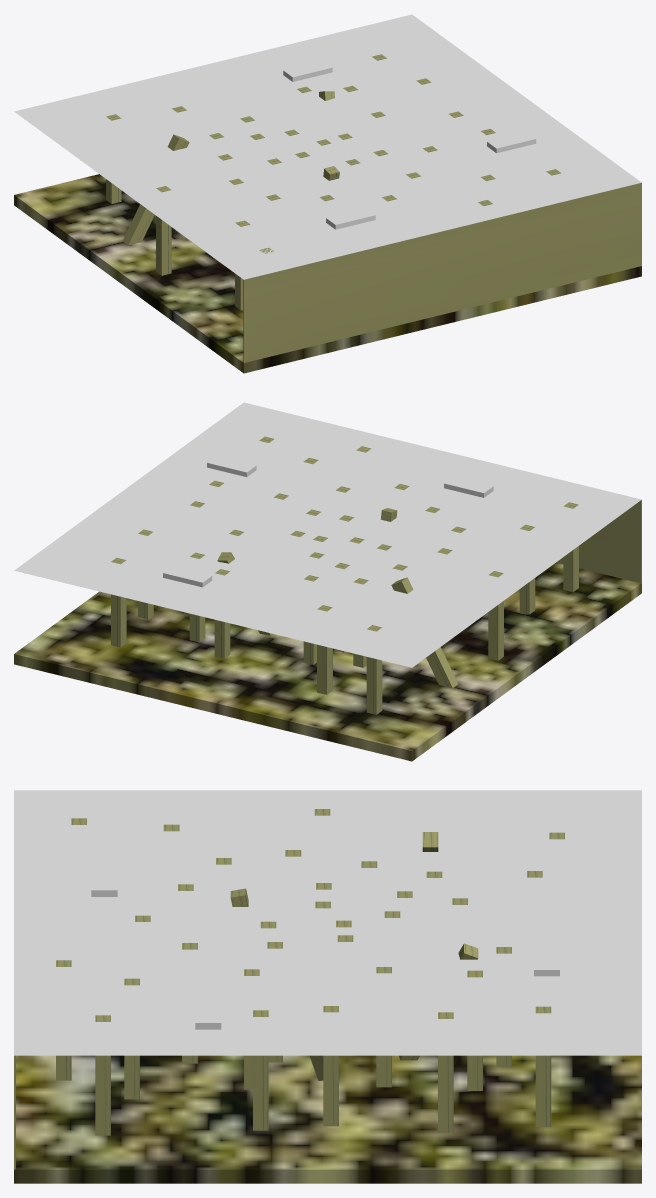
The model's file is BackroomsLevelZero - 19.fbx.
3 views of the same model, one above another, from view 1: azimuth 30°, elevation 25°; view 2: azimuth 150°, elevation 25°; view 3: azimuth 270°, elevation 25° (orthographic). The views are drawn at different scales.
Parts seen in each view (by area): view 1: Floor.038, Wall.022, Floor.007, Cube.034, Cube.032, Cube.255, Cube.256, Cube.257; view 2: Floor.038, Floor.007, Wall.022, Cube.035, Cube.034, Cube.032, Cube.024, Cube.036, Cube.030, Cube.002, Cube.256, Cube.255 (+2 smaller); view 3: Floor.038, Floor.007, Cube.028, Cube.025, Cube.024, Cube.026, Cube.027, Cube.256, Cube.257, Cube.255, Cube.008, Cube.023 (+1 smaller).
Boxes of the visible parts, x1,y1,x2,y2 form: Floor.038: (14, 14, 641, 279); Wall.022: (243, 182, 641, 362); Floor.007: (14, 174, 641, 373); Cube.034: (122, 134, 189, 245); Cube.032: (156, 186, 171, 275); Cube.255: (283, 60, 332, 81); Cube.256: (326, 208, 375, 229); Cube.257: (487, 132, 536, 153); Floor.038: (14, 402, 641, 667); Floor.007: (14, 562, 641, 761); Wall.022: (556, 500, 641, 583); Cube.035: (366, 625, 382, 714); Cube.034: (391, 577, 458, 688); Cube.032: (488, 571, 503, 660); Cube.024: (111, 557, 126, 647); Cube.036: (317, 605, 332, 694); Cube.030: (563, 502, 578, 591); Cube.002: (214, 569, 230, 658); Cube.256: (444, 476, 493, 497); Cube.255: (163, 566, 212, 587); Floor.038: (14, 790, 641, 1055); Floor.007: (14, 1055, 641, 1183); Cube.028: (95, 1015, 110, 1135); Cube.025: (438, 1012, 453, 1132); Cube.024: (535, 1006, 551, 1126); Cube.026: (253, 1010, 268, 1130); Cube.027: (323, 1006, 338, 1126); Cube.256: (91, 863, 117, 896); Cube.257: (195, 996, 221, 1029); Cube.255: (534, 943, 559, 976); Cube.008: (124, 978, 139, 1099); Cube.023: (467, 970, 482, 1090).
Size of the model in its own units: 4000 by 1062 by 4000.
